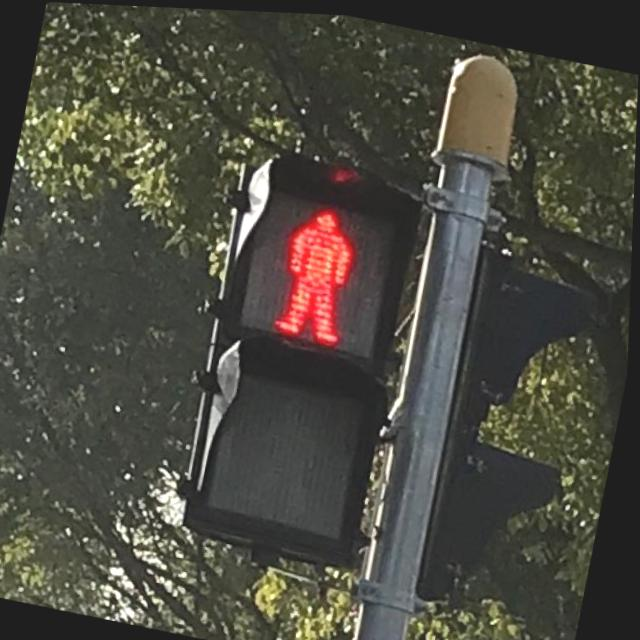red_light: (234, 170, 403, 360)
